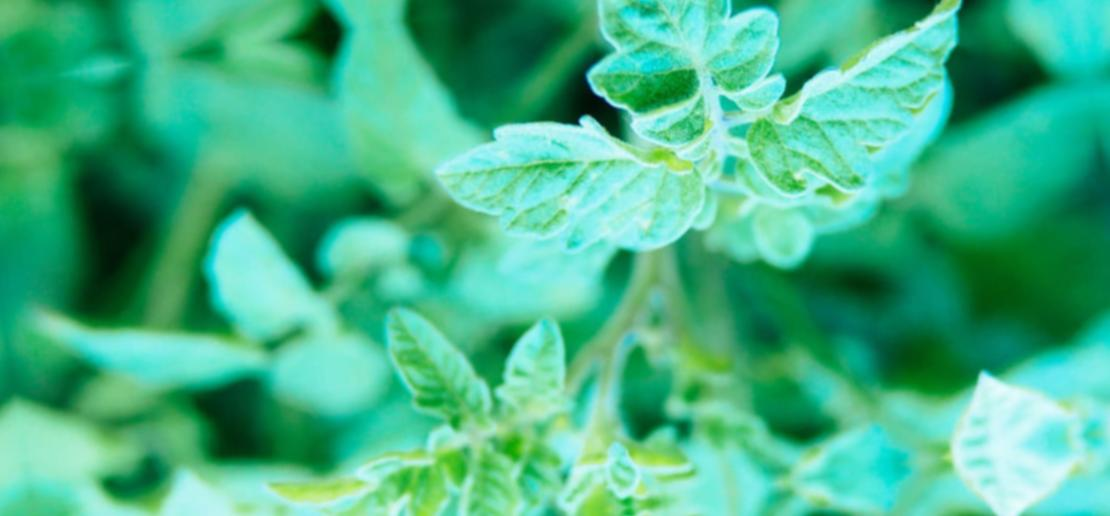Tomato leaf: (693, 0, 1017, 250), (433, 75, 729, 282), (550, 0, 775, 189)
